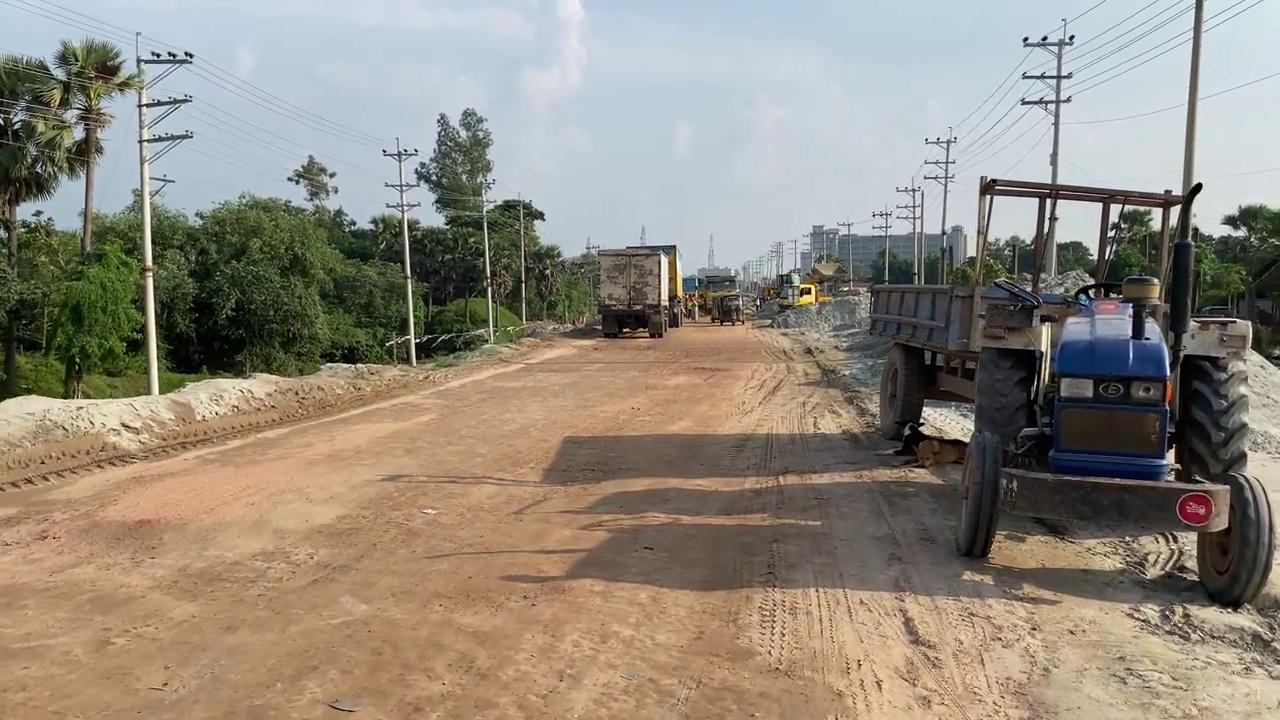Dog: (891, 421, 968, 468)
Muddy road: (1, 326, 1277, 718)
Pole: (1019, 17, 1075, 291), (381, 137, 420, 366), (135, 53, 160, 395)
Traffic-sign: (0, 51, 94, 397)
Tree: (874, 170, 1280, 602), (594, 243, 684, 338), (775, 261, 849, 312), (684, 273, 738, 317), (803, 261, 849, 297), (775, 282, 818, 311), (762, 271, 801, 302), (710, 291, 744, 325), (682, 275, 704, 317)
